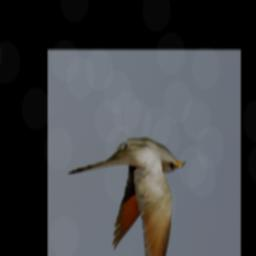Cuckoo: (67, 134, 190, 256)
